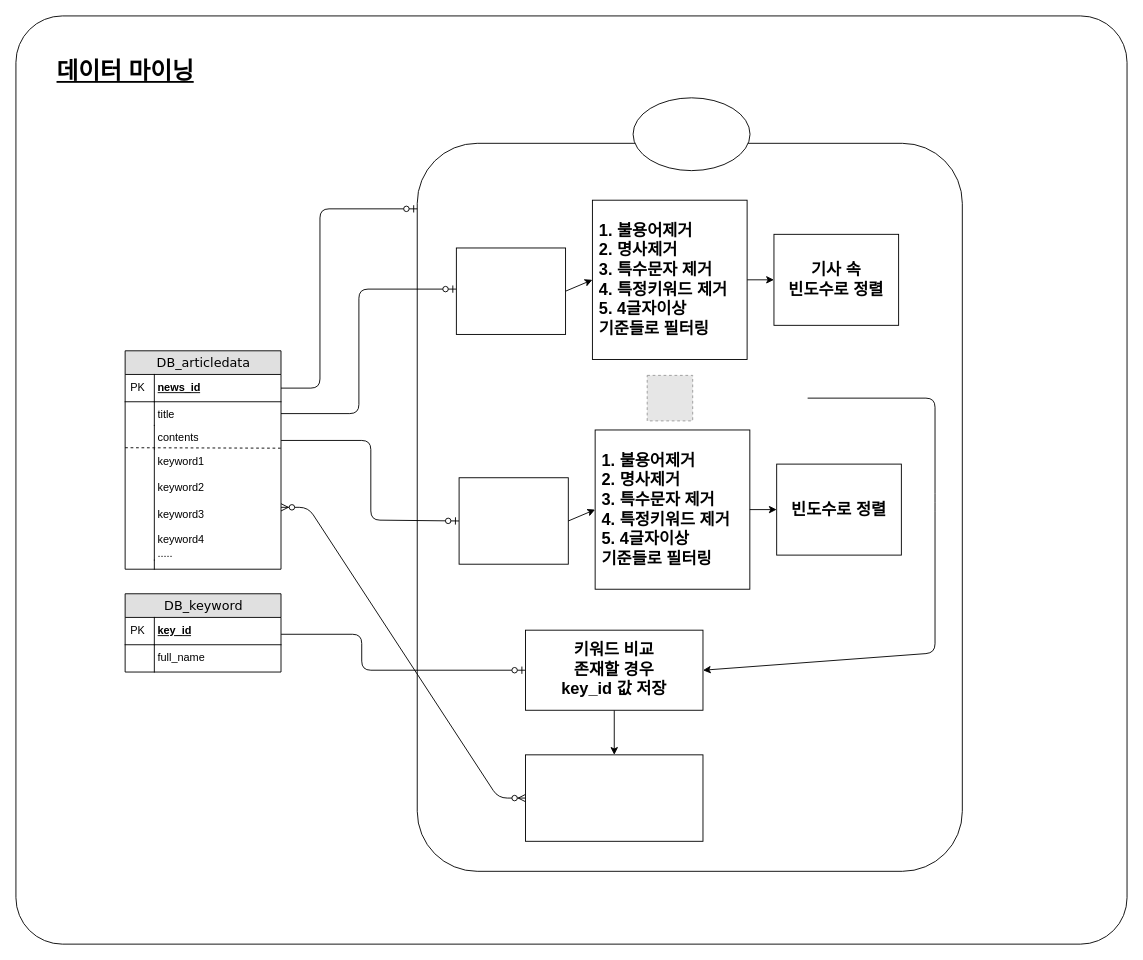
The diagram is 1143 pixels wide and 960 high, and some of its shapes have lost their labels. Grey dashed boxes stand in for pictures. Each missing label, with the centre of its shape:
"R Studio" belongs at [691,134].
"기사 내용 추출" belongs at [513,520].
"순서대로 twitter_keyword1,2,3에 저장" belongs at [614,797].
"제목, 첫문장 추출" belongs at [510,290].
